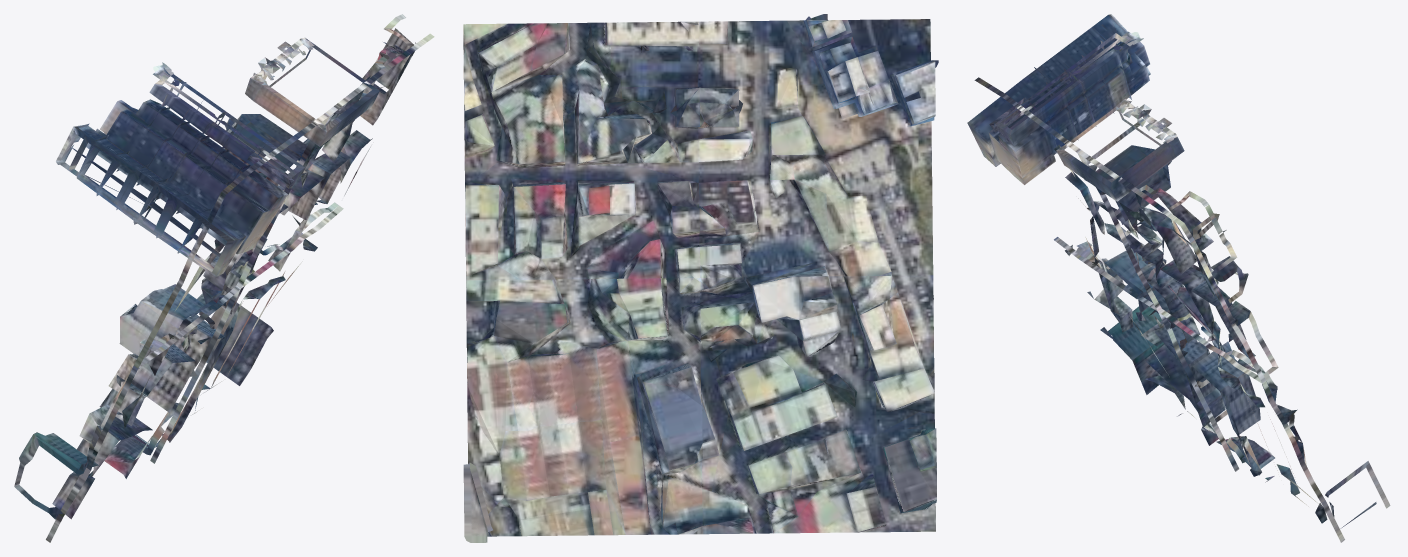
3 renders of one model, left to right at view 1: azimuth 30°, elevation 25°; view 2: azimuth 150°, elevation 25°; view 3: azimuth 270°, elevation 25°, orthographic. The views are drawn at different scales.
Size of the model in its own units: 319 by 319 by 296.
2 materials, 2 textured.
